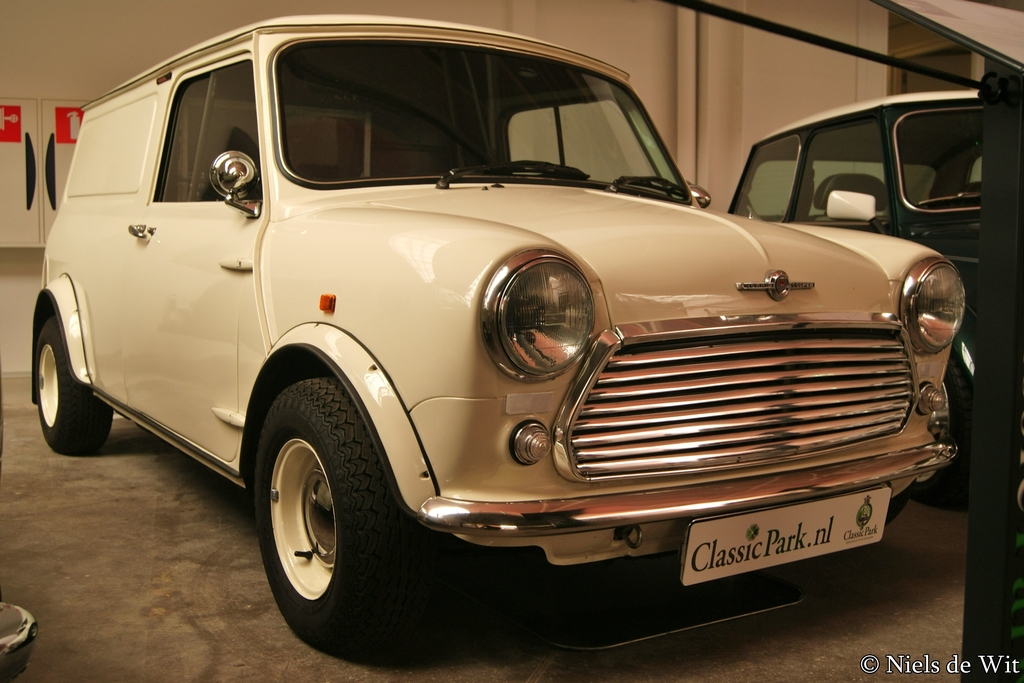Car: (44, 32, 1004, 638), (729, 89, 986, 513)
